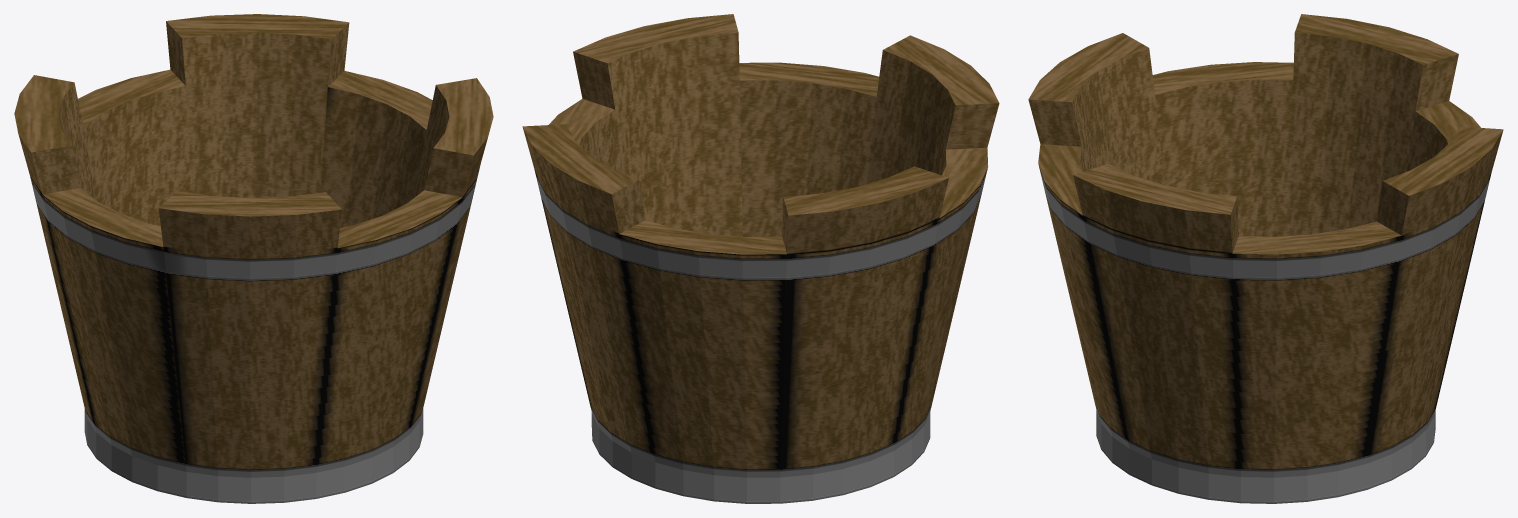
Rendered from WaterBucket.fbx.
3 views of the same model, side by side, from view 1: azimuth 30°, elevation 25°; view 2: azimuth 150°, elevation 25°; view 3: azimuth 270°, elevation 25° (orthographic).
Parts seen in each view (by area): view 1: WaterBucket; view 2: WaterBucket; view 3: WaterBucket.
Part boxes in pixels (box(x1,y1,x2,y2)): WaterBucket: box(14, 14, 493, 503); WaterBucket: box(522, 14, 999, 503); WaterBucket: box(1028, 14, 1503, 503).
Size of the model in its own units: 109 by 80.58 by 109.
1 material, 1 textured.
